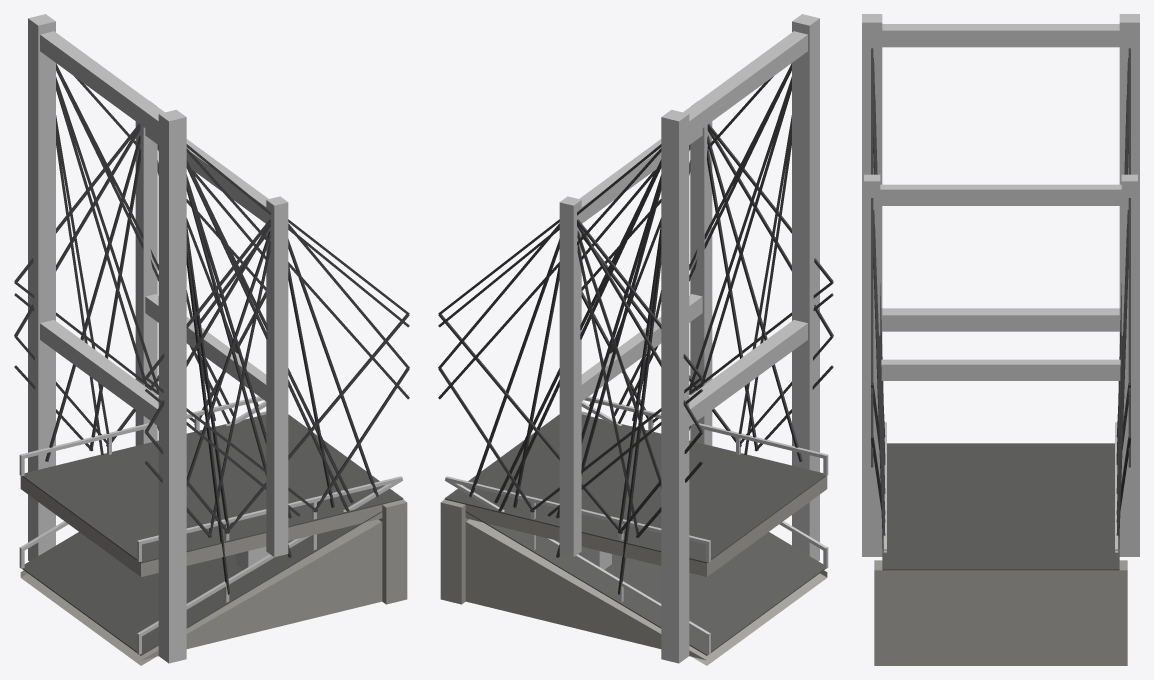
File: most_zaveseny.glb
The picture shows the model from 3 angles, left to right: view 1: azimuth 30°, elevation 25°; view 2: azimuth 150°, elevation 25°; view 3: azimuth 270°, elevation 25°; orthographic projection.
Parts seen in each view (by area): view 1: stred, hlava, stred_a, stred_b, konec; view 2: stred, hlava, stred_a, stred_b, konec; view 3: stred, hlava, stred_a, stred_b.
Boxes of the visible parts, bbox=[...] form: stred: bbox=[19, 14, 409, 580]; hlava: bbox=[19, 21, 407, 665]; stred_a: bbox=[14, 100, 409, 557]; stred_b: bbox=[14, 234, 409, 533]; konec: bbox=[14, 293, 300, 537]; stred: bbox=[438, 14, 828, 581]; hlava: bbox=[440, 19, 828, 665]; stred_a: bbox=[438, 100, 833, 557]; stred_b: bbox=[438, 234, 833, 533]; konec: bbox=[547, 293, 833, 537]; stred: bbox=[862, 14, 1139, 575]; hlava: bbox=[862, 23, 1139, 665]; stred_a: bbox=[864, 174, 1137, 549]; stred_b: bbox=[871, 383, 1130, 510].
Size of the model in its own units: 14.99 by 29.6 by 13.8.
1 material, 1 textured.
